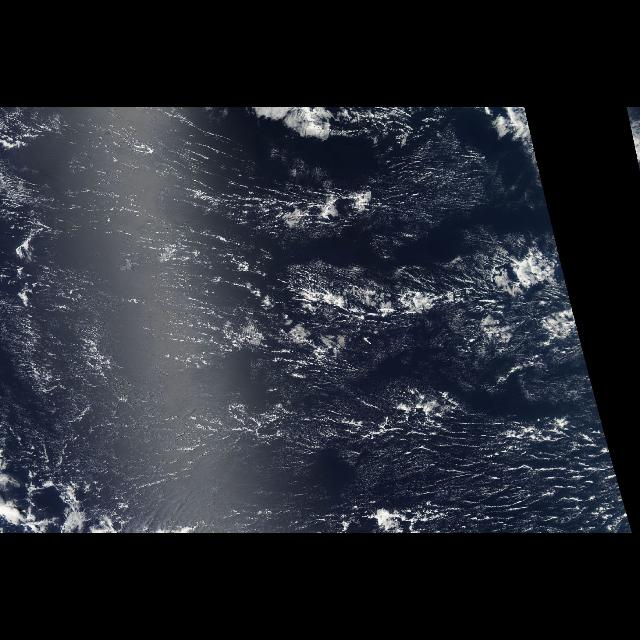Fish: (109, 214, 603, 424)
Sugar: (21, 120, 556, 528)
